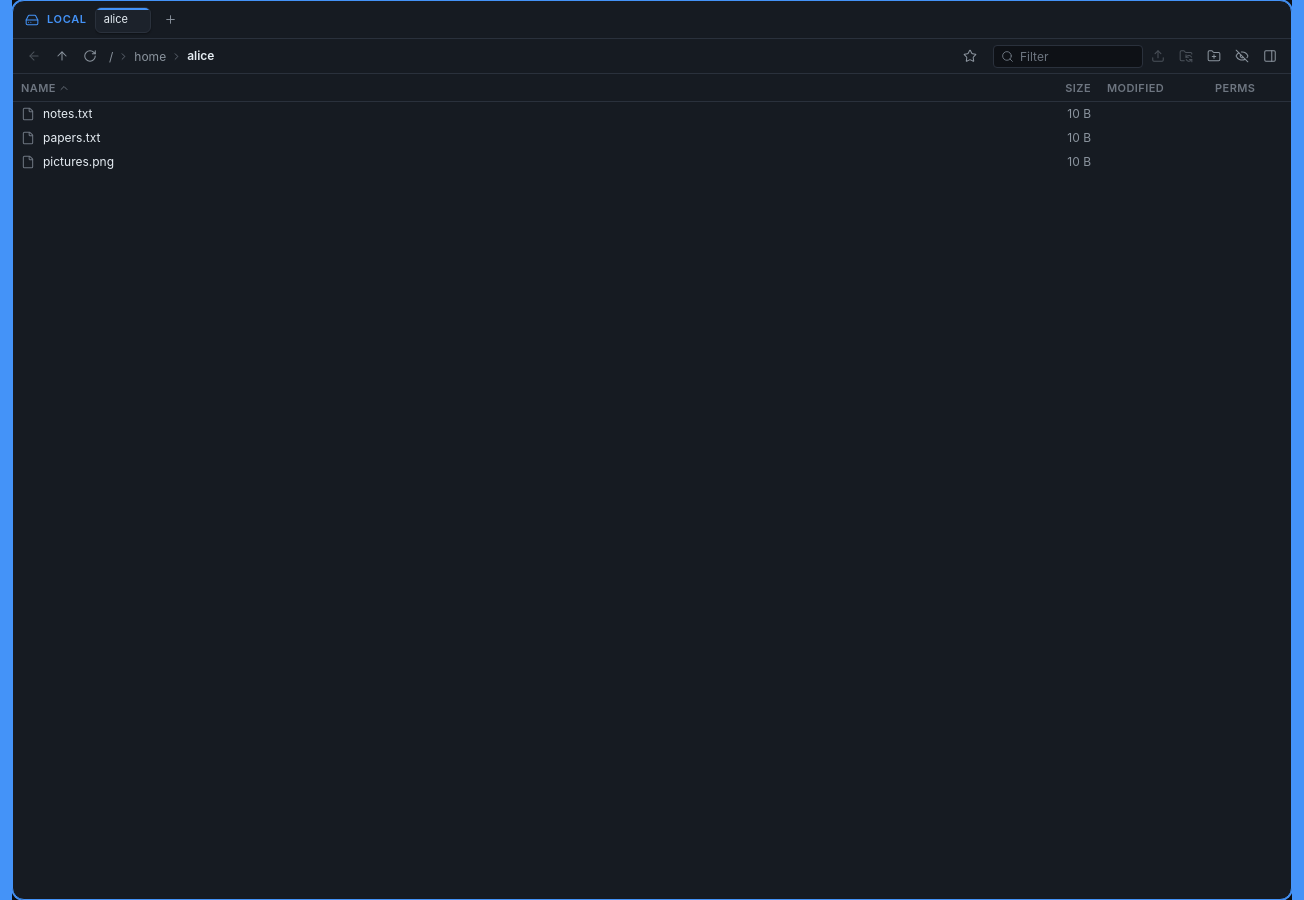
default shortcuts › shows the bindings in the context menu
This screenshot has width=1304, height=900.
Step 1. Right-click the text "notes.txt" → (68, 114), box [43,105,92,123]
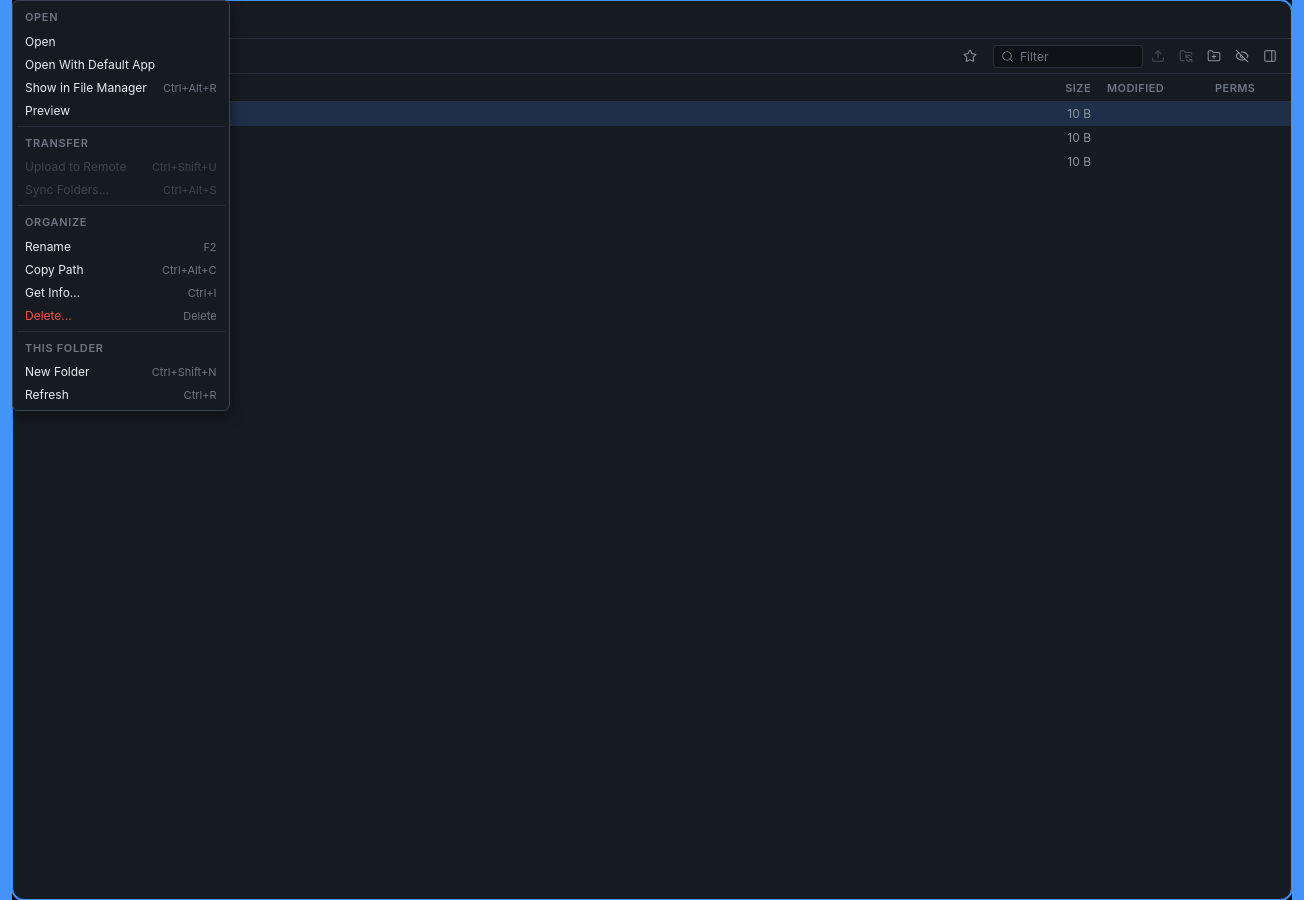
Now the menu shows "Ctrl+R", box [17,383,225,406]
Now the menu shows "Ctrl+Shift+N", box [17,360,225,383]
